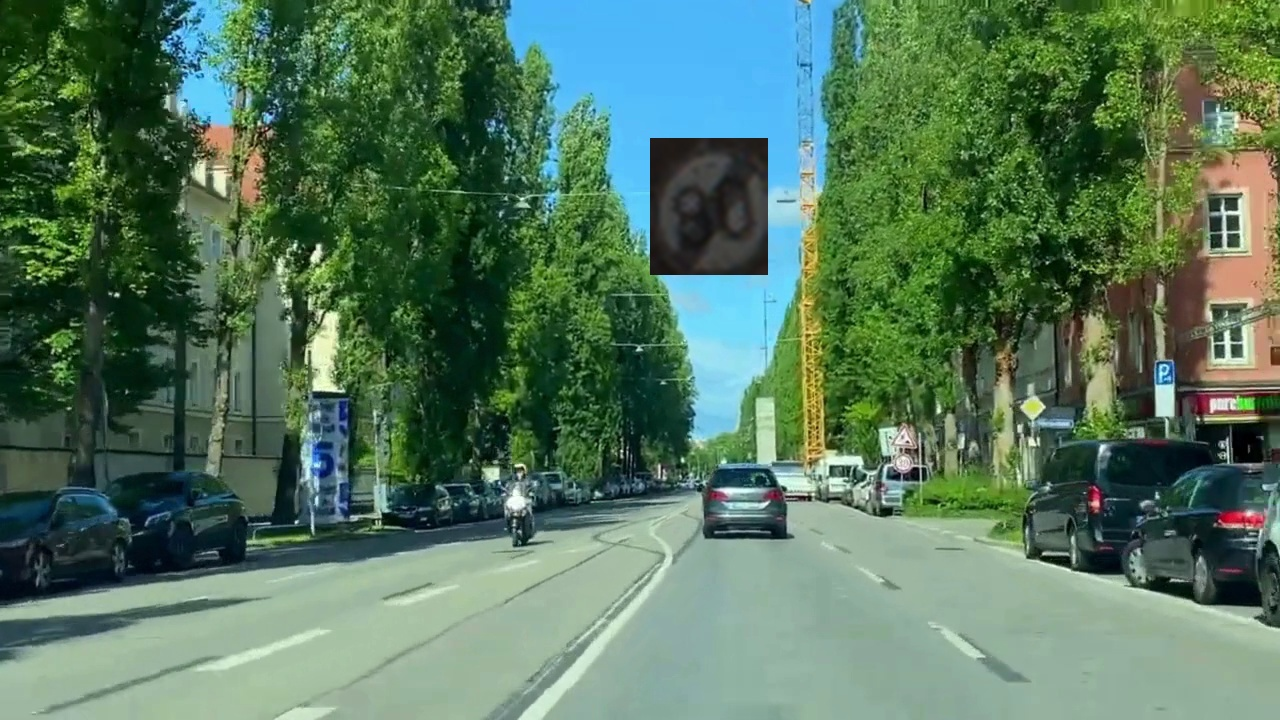End Speed 80: (650, 138, 768, 275)
